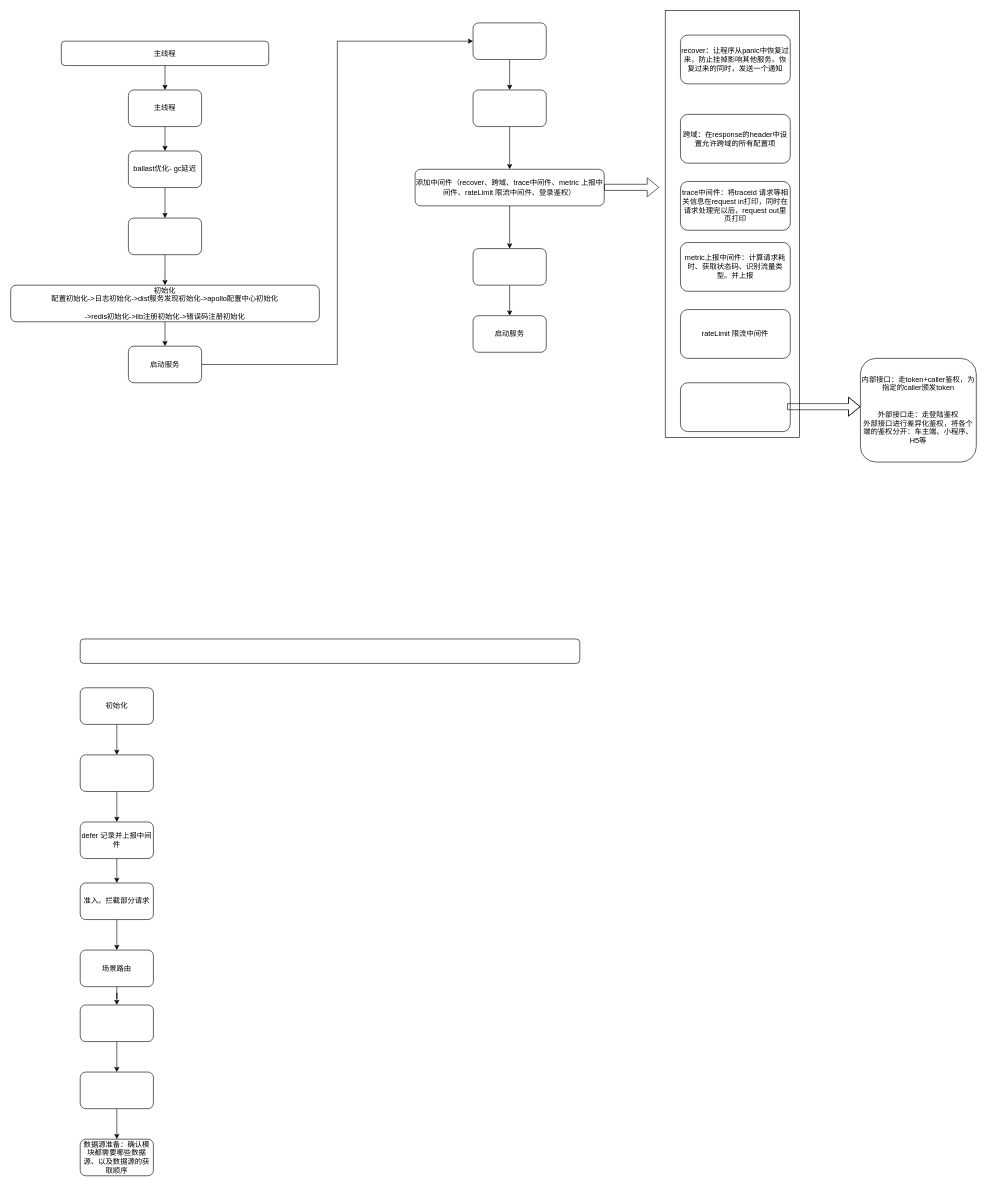
Image size: 987x1186. Some labels were removed from this diagram. Each missing label, with the centre of its shape:
"monitor 对服务进行监控" goes at pixel 165 236.
"异常参数拦截" goes at pixel 116 772.
"数据源准备" goes at pixel 116 1090.
"注册服务" goes at pixel 509 108.
"渲染引擎" goes at pixel 330 650.
"获取对应路由的所有模块" goes at pixel 116 1023.
"设置默认编码方式、http错误码" goes at pixel 509 266.
"读取viper配置" goes at pixel 509 40.
"鉴权、必要参数校验（针对特殊场景、校验传递参数的真实性）" goes at pixel 735 407.
